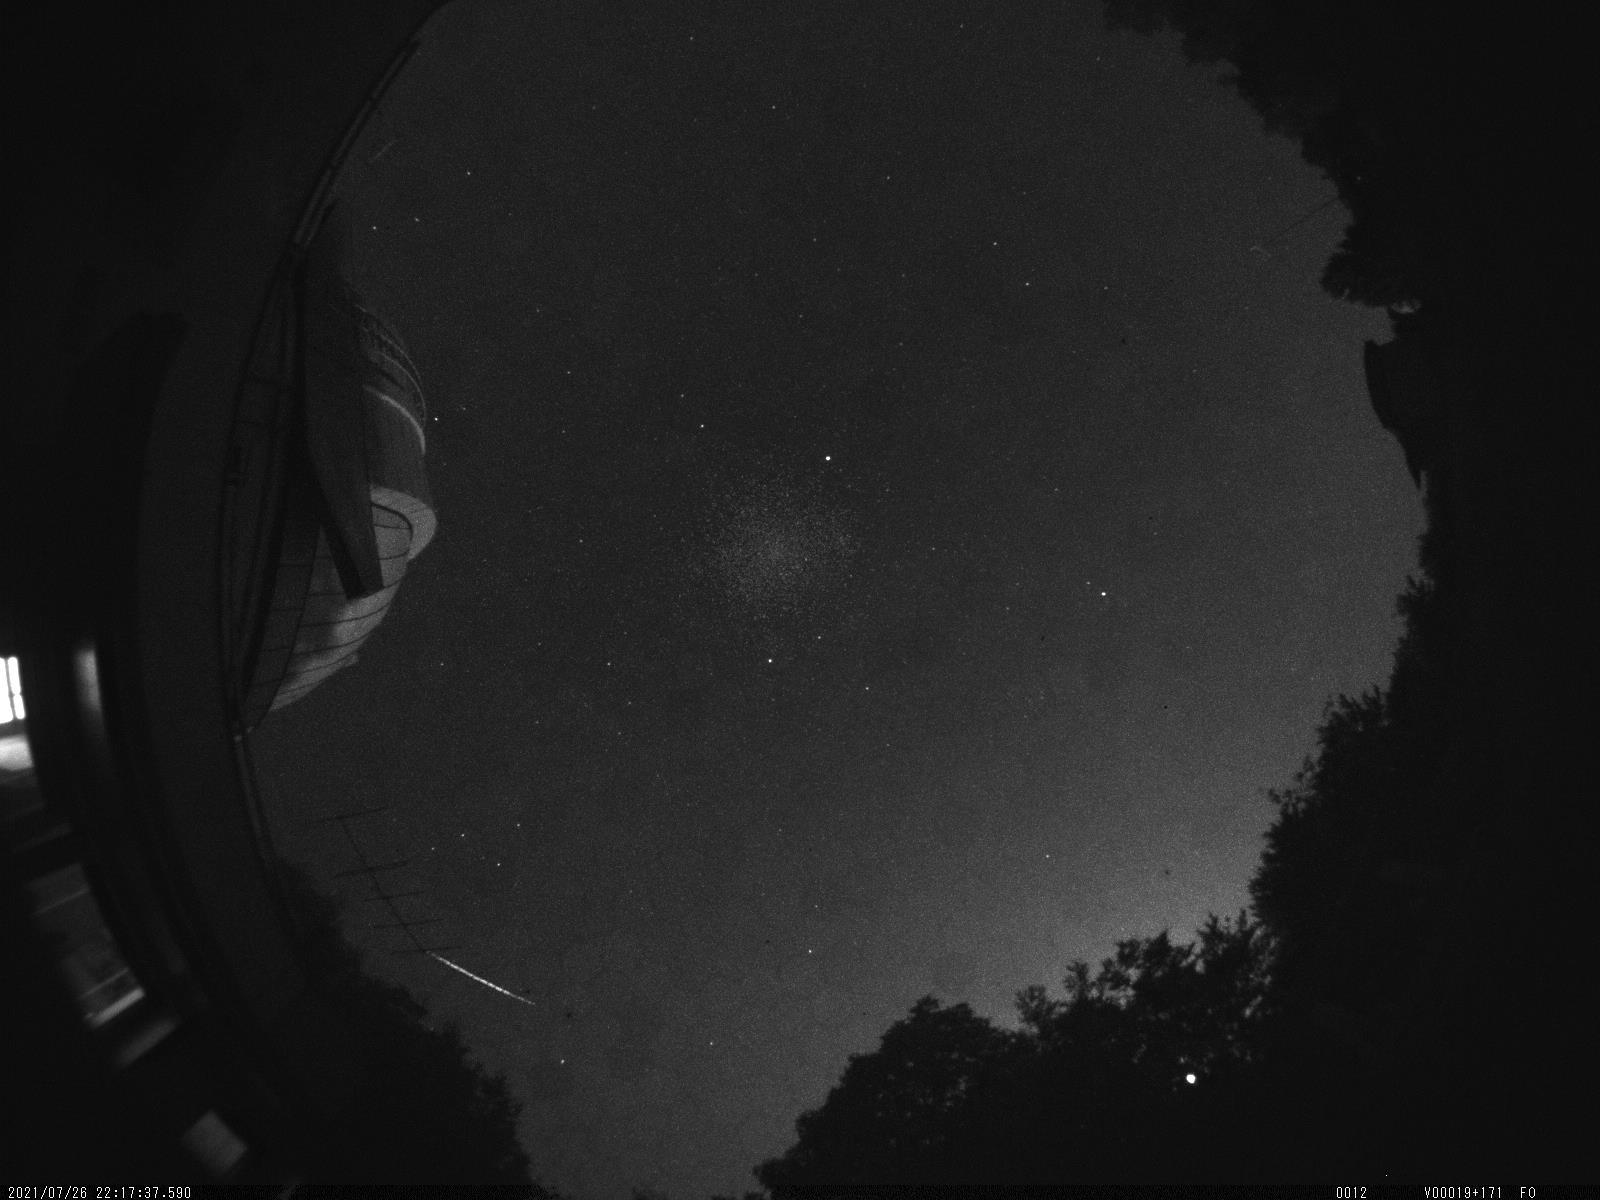Meteor: (417, 945, 553, 1017)
